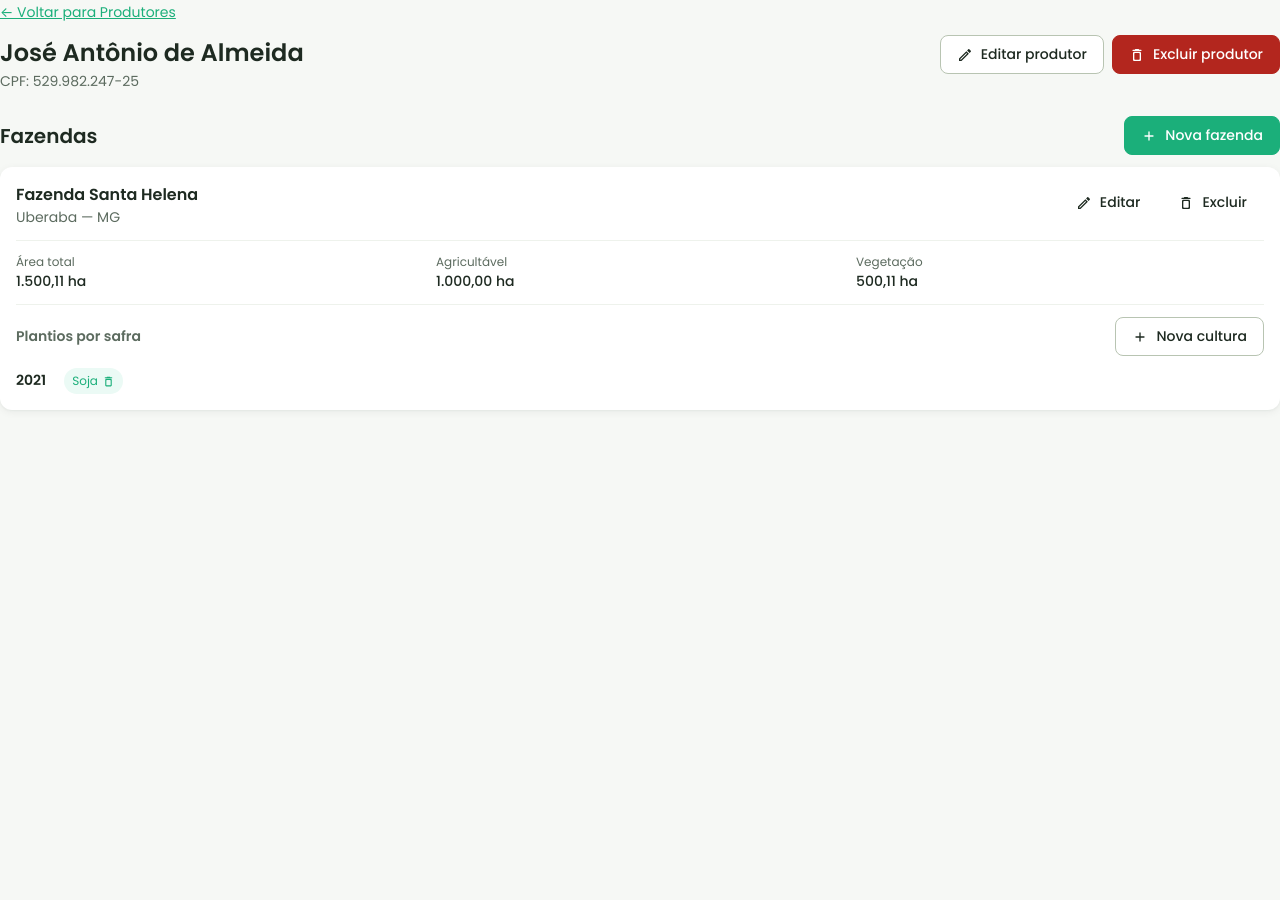
Test: ProducerDetail › keeps the planting form open and shows the duplicate refusal
This screenshot has width=1280, height=900.
Expected: the heading "José Antônio de Almeida" is shown, [0,35,304,71]
Click the button "Nova cultura".
click(1190, 336)  # box [1115,317,1264,356]
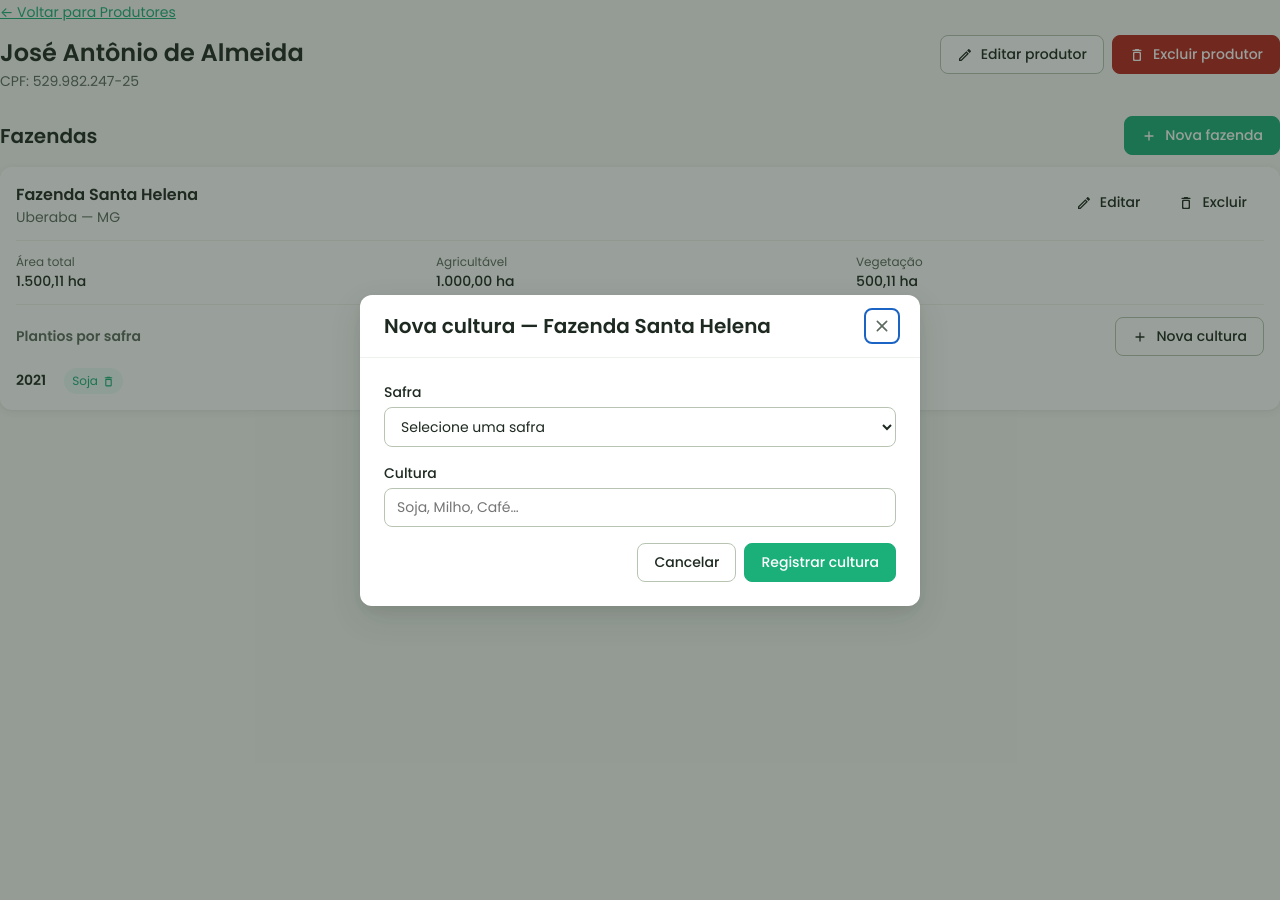
Select "2021" in the dropdown labelled "Safra" at (640, 426), box [384,406,896,446]
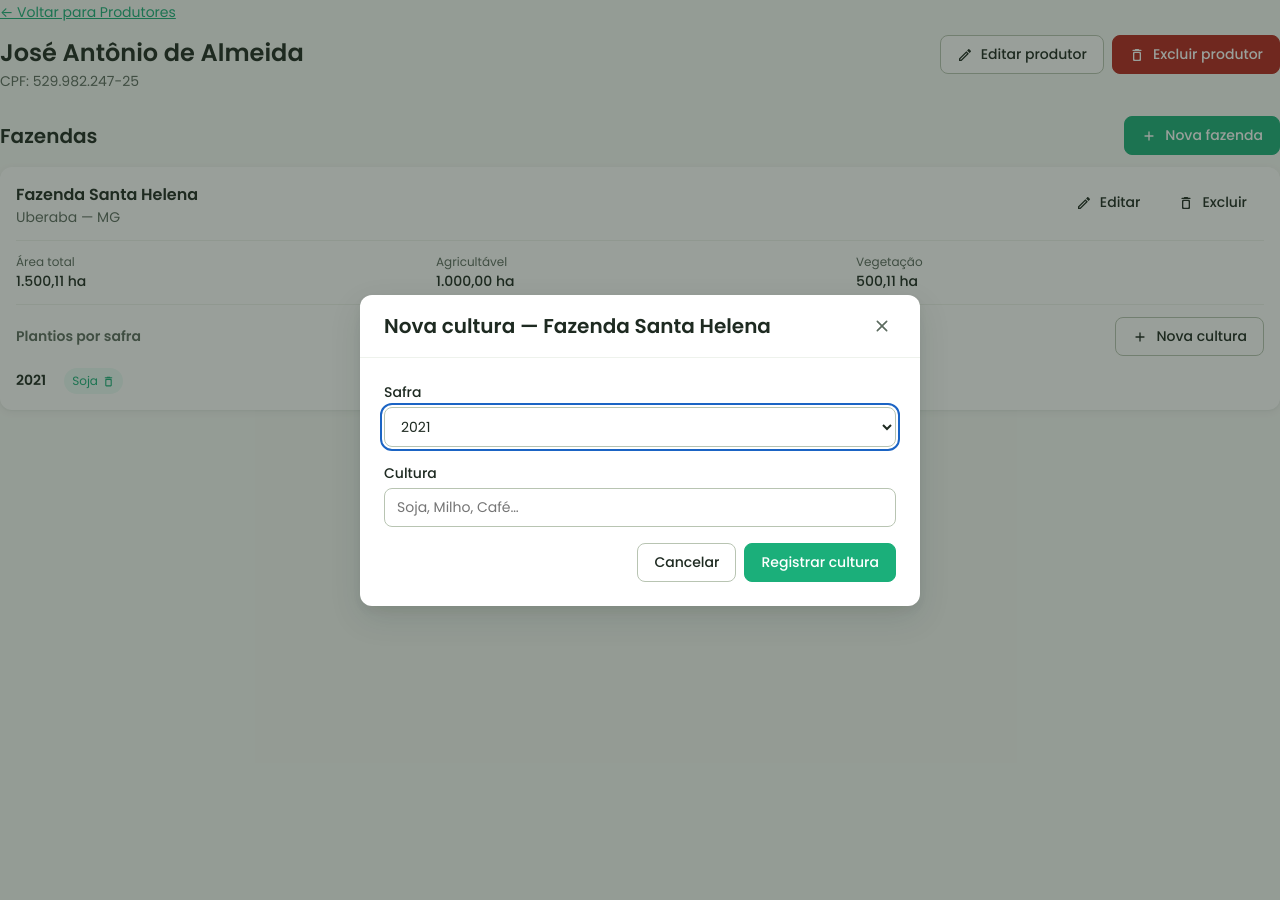
Type "Soja" into the field labelled "Cultura".
click(640, 507); type("Soja")  # box [384,488,896,526]
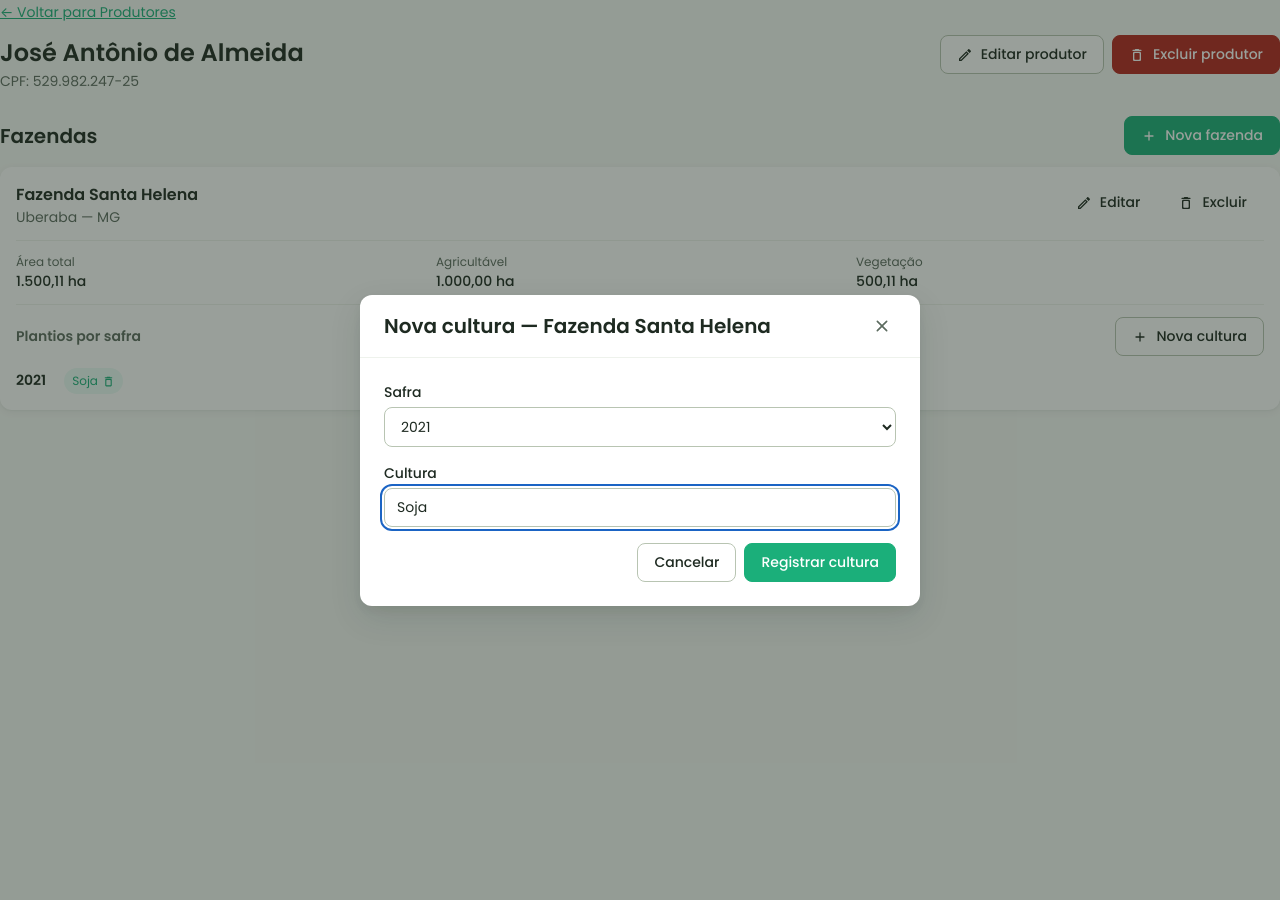
Click the button "Registrar cultura".
click(820, 562)  # box [744,542,896,582]
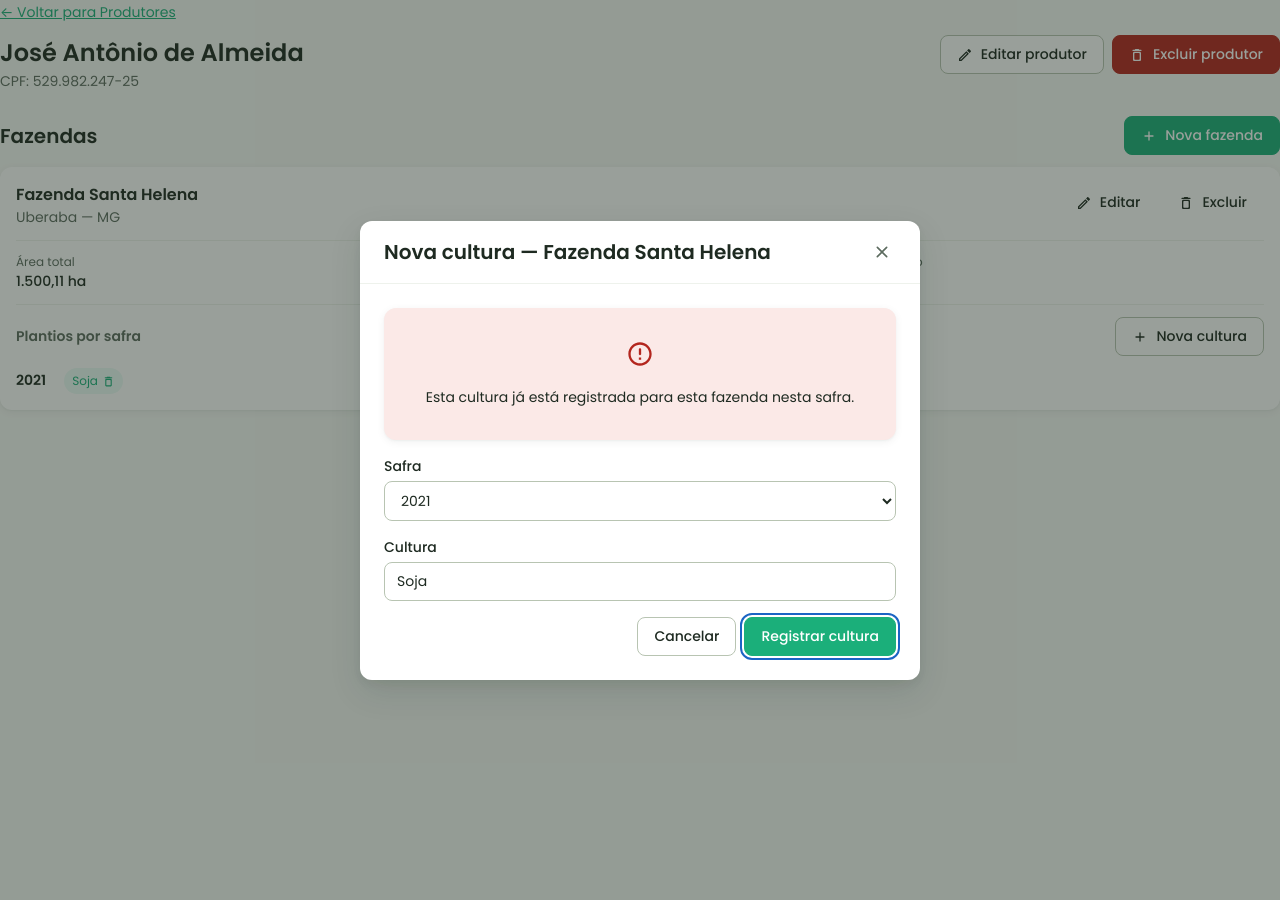
Result: the dialog is shown at [360,220,920,680]
Result: the message reads "Esta cultura já está registrada para esta fazenda nesta safra." at [426,386,854,406]
